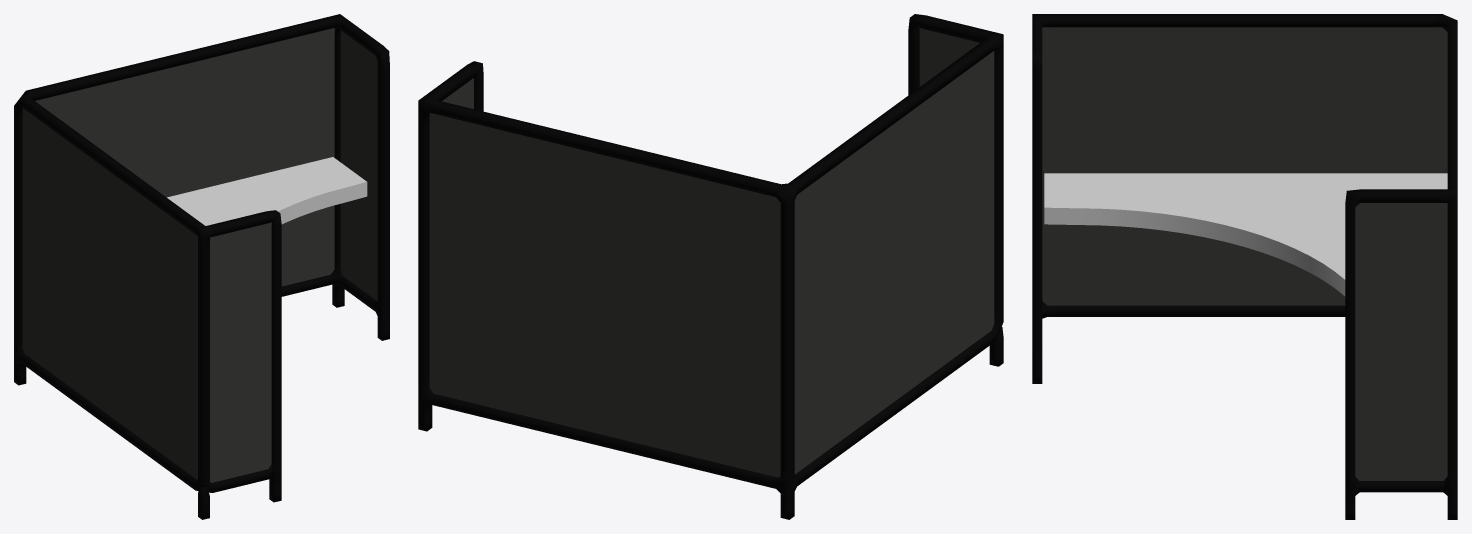
File: SingleCubicle.glb
3 views of the same model, side by side, from view 1: azimuth 30°, elevation 25°; view 2: azimuth 150°, elevation 25°; view 3: azimuth 270°, elevation 25° (orthographic). The views are drawn at different scales.
Visible parts, largest first — view 1: Cubicle Wall.001, Cubiclemetal.001, CubicleDesk.001; view 2: Cubicle Wall.001, Cubiclemetal.001; view 3: Cubicle Wall.001, Cubiclemetal.001, CubicleDesk.001.
Part boxes in pixels (x1,y1,x2,y2): Cubicle Wall.001: [22, 28, 377, 482]; Cubiclemetal.001: [14, 14, 389, 519]; CubicleDesk.001: [167, 157, 367, 225]; Cubicle Wall.001: [429, 27, 994, 477]; Cubiclemetal.001: [418, 14, 1003, 519]; Cubicle Wall.001: [1042, 27, 1447, 480]; Cubiclemetal.001: [1032, 14, 1457, 519]; CubicleDesk.001: [1044, 173, 1447, 296].
Bounding box in the file's own units: 2 × 1.7 × 2.
Materials: 2 (2 with a texture image).
